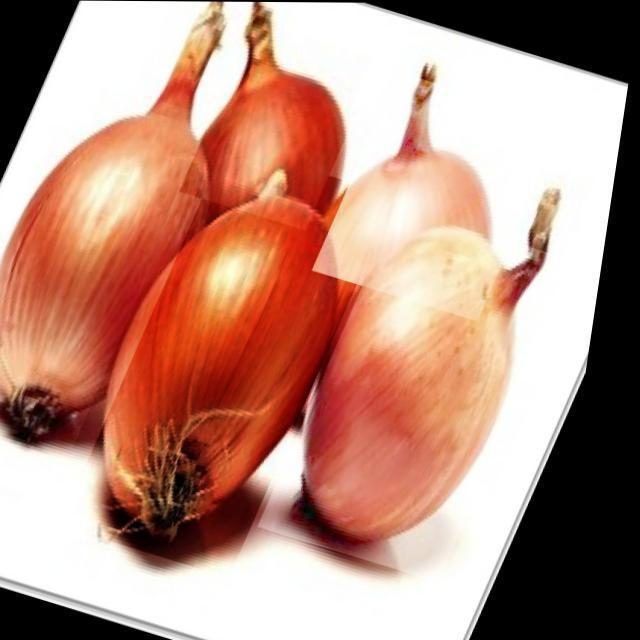Onion: (69, 143, 407, 578), (267, 205, 592, 582), (0, 72, 225, 448), (314, 70, 572, 320), (180, 13, 387, 230)
